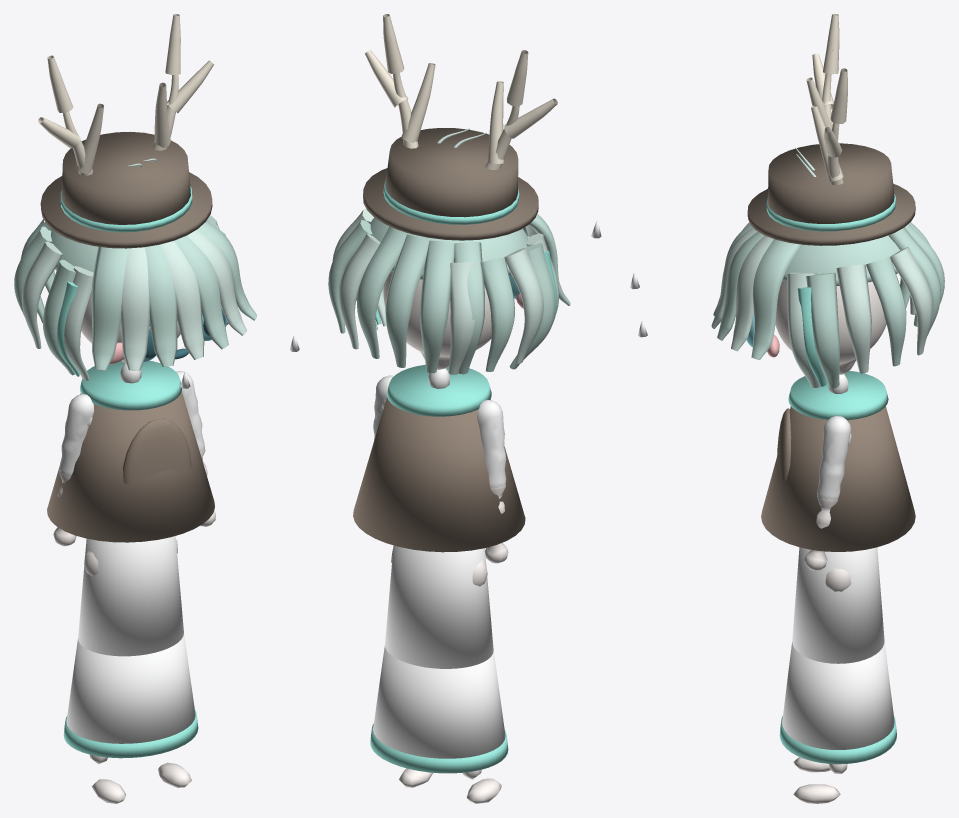
Rendered from gudong-blender.glb.
The picture shows the model from 3 angles, left to right: view 1: azimuth 30°, elevation 25°; view 2: azimuth 150°, elevation 25°; view 3: azimuth 270°, elevation 25°; orthographic projection. The views are drawn at different scales.
Visible parts, largest first — view 1: cape, robe, robe-skirt, hat-crown, hat-brim, cape-collar, bang-strand-0, cape-front, bang-strand-1, bang-strand-2, antler-L, bang-strand-3 (+16 smaller); view 2: cape, robe, robe-skirt, hat-crown, hat-brim, cape-collar, hair-crown-2, antler-L, hair-crown-1, antler-R, hair-crown-0, hair-back-R-1 (+15 smaller); view 3: cape, robe-skirt, robe, hat-crown, hat-brim, cape-collar, bang-strand-6, sideburn-strand-L-1, hair-cap, hair-back-L-0, head, hair-back-L-1 (+16 smaller).
Boxes of the visible parts, x1=… form: cape: x1=47, y1=391, x2=214, y2=542; robe: x1=78, y1=536, x2=183, y2=656; robe-skirt: x1=66, y1=634, x2=195, y2=743; hat-crown: x1=61, y1=131, x2=190, y2=224; hat-brim: x1=40, y1=172, x2=212, y2=248; cape-collar: x1=80, y1=360, x2=181, y2=410; bang-strand-0: x1=91, y1=246, x2=128, y2=370; cape-front: x1=123, y1=418, x2=191, y2=485; bang-strand-1: x1=120, y1=247, x2=149, y2=370; bang-strand-2: x1=144, y1=244, x2=177, y2=366; antler-L: x1=153, y1=14, x2=213, y2=150; bang-strand-3: x1=160, y1=241, x2=204, y2=359; cape: x1=353, y1=397, x2=525, y2=552; robe: x1=385, y1=545, x2=493, y2=668; robe-skirt: x1=373, y1=646, x2=505, y2=758; hat-crown: x1=385, y1=128, x2=518, y2=217; hat-brim: x1=363, y1=168, x2=538, y2=240; cape-collar: x1=387, y1=364, x2=491, y2=416; hair-crown-2: x1=420, y1=240, x2=454, y2=373; antler-L: x1=365, y1=14, x2=435, y2=148; hair-crown-1: x1=385, y1=234, x2=429, y2=367; antler-R: x1=485, y1=50, x2=557, y2=169; hair-crown-0: x1=357, y1=226, x2=406, y2=358; hair-back-R-1: x1=480, y1=257, x2=514, y2=371; cape: x1=761, y1=406, x2=915, y2=551; robe-skirt: x1=782, y1=642, x2=894, y2=749; robe: x1=792, y1=547, x2=884, y2=663; hat-crown: x1=768, y1=143, x2=894, y2=223; hat-brim: x1=747, y1=184, x2=915, y2=245; cape-collar: x1=788, y1=370, x2=888, y2=420; bang-strand-6: x1=751, y1=239, x2=802, y2=359; sideburn-strand-L-1: x1=806, y1=272, x2=839, y2=388; hair-cap: x1=782, y1=235, x2=899, y2=285; hair-back-L-0: x1=836, y1=264, x2=871, y2=373; head: x1=775, y1=280, x2=886, y2=374; hair-back-L-1: x1=866, y1=257, x2=906, y2=366.
Bounding box in the file's own units: 0.8841 × 3.25 × 1.25.
